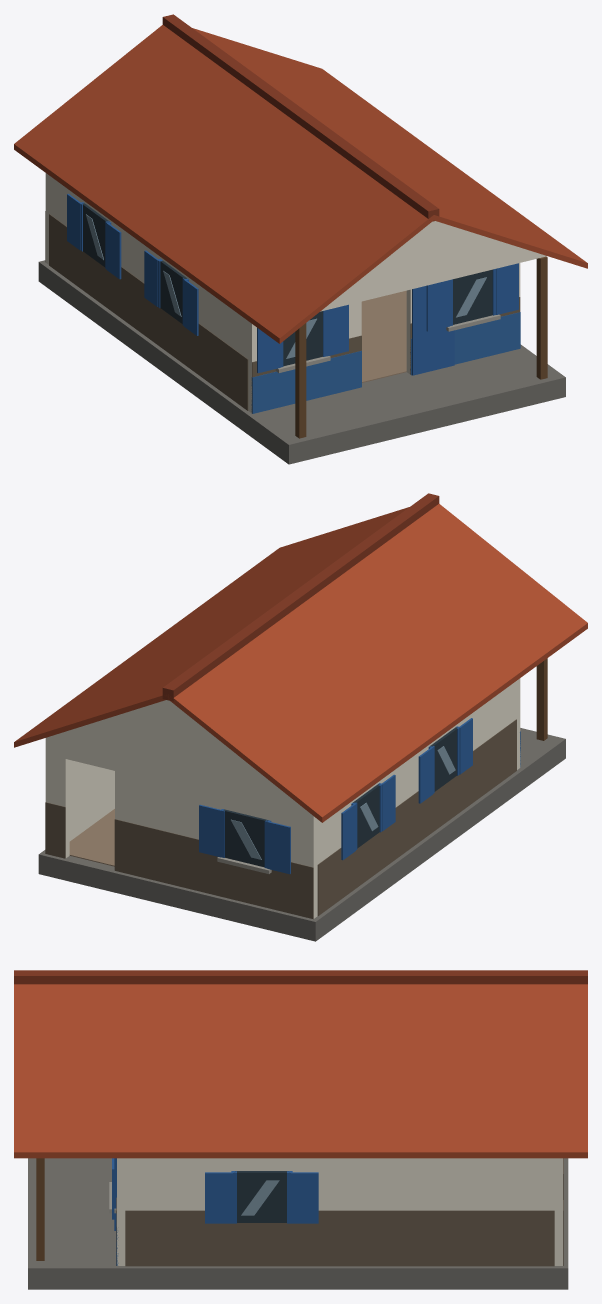
The model's file is casa_caicara_a.glb.
3 views of the same model, one above another, from view 1: azimuth 30°, elevation 25°; view 2: azimuth 150°, elevation 25°; view 3: azimuth 270°, elevation 25° (orthographic). The views are drawn at different scales.
Visible parts, largest first — view 1: casa_caicara_a; view 2: casa_caicara_a; view 3: casa_caicara_a.
Boxes of the visible parts, box(x1,y1,x2,y2) form: casa_caicara_a: box(14, 14, 587, 464); casa_caicara_a: box(14, 493, 587, 941); casa_caicara_a: box(14, 970, 587, 1289).
Size of the model in its own units: 6.9 by 4.82 by 10.3.
